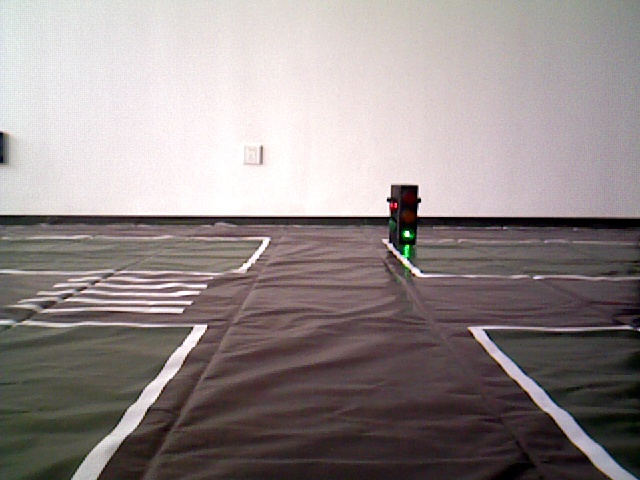green: (387, 184, 417, 243)
